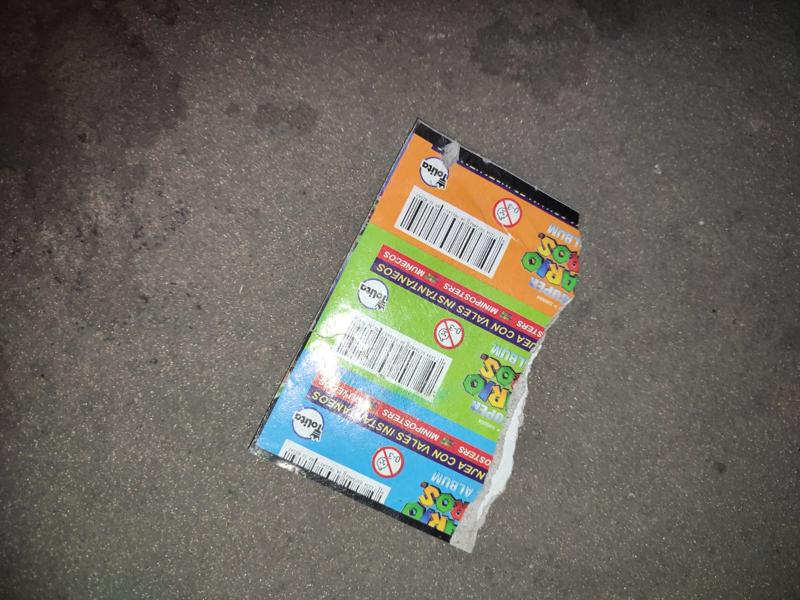papel: (250, 124, 582, 556)
